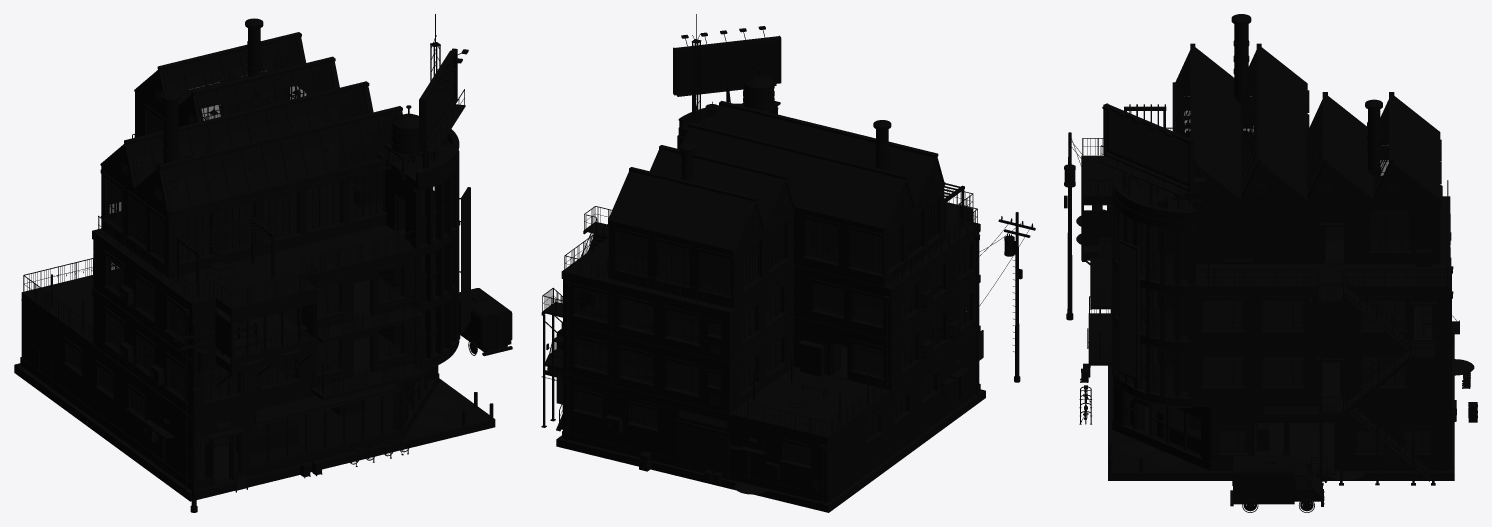
File: forme-Us-gVIm5.glb
3 renders of one model, left to right at view 1: azimuth 30°, elevation 25°; view 2: azimuth 150°, elevation 25°; view 3: azimuth 270°, elevation 25°, orthographic. The views are drawn at different scales.
Parts seen in each view (by area): view 1: body, glass, glow, pool; view 2: body, glass, glow, pool; view 3: body, glow, glass, pool.
Boxes of the visible parts, <box> form: body: <box>14,14,512,512</box>; glass: <box>69,39,509,480</box>; glow: <box>57,38,470,489</box>; pool: <box>180,202,460,442</box>; body: <box>541,14,1035,512</box>; glass: <box>551,200,969,465</box>; glow: <box>545,29,983,465</box>; pool: <box>582,221,913,494</box>; body: <box>1064,14,1477,512</box>; glow: <box>1083,54,1432,504</box>; glass: <box>1123,55,1429,487</box>; pool: <box>1076,153,1474,480</box>.
Bounding box in the file's own units: 27.3 × 23.9 × 23.4.
4 materials, 4 textured.
